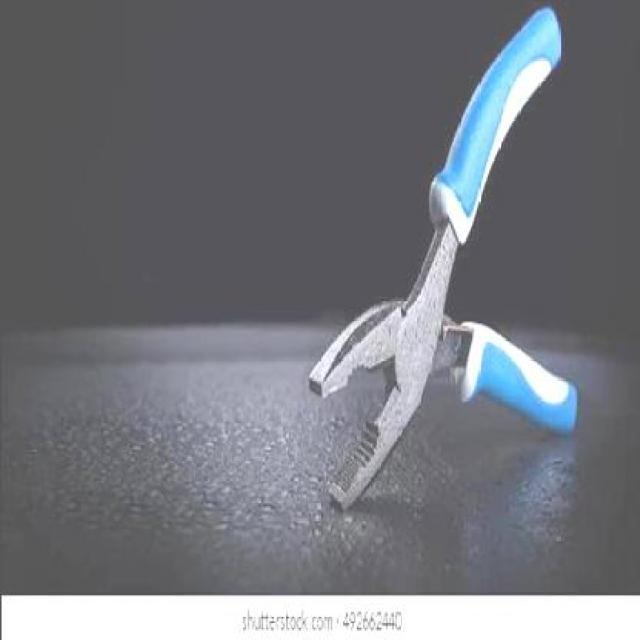pliers: (306, 3, 580, 504)
